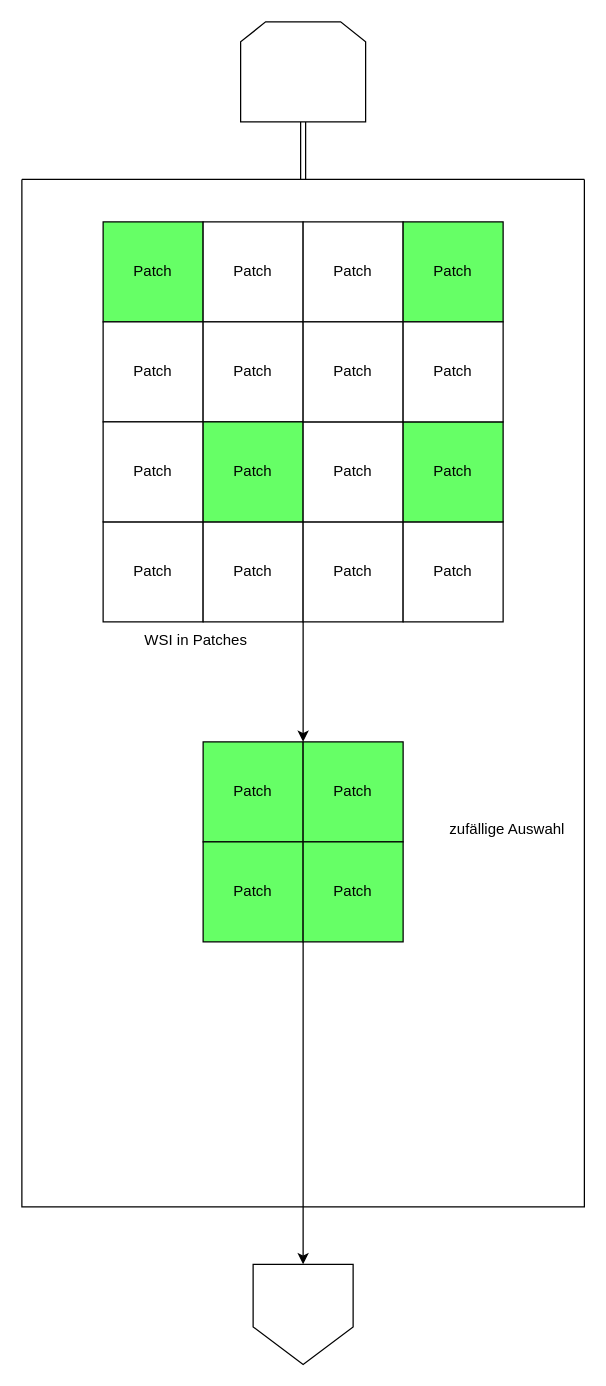
Some shapes in this 606 by 1386 pixel diagram are drawn without their labels. Each missing label, with the box of its shape:
mode random: (239, 21, 366, 122)
output: (252, 1263, 353, 1364)
